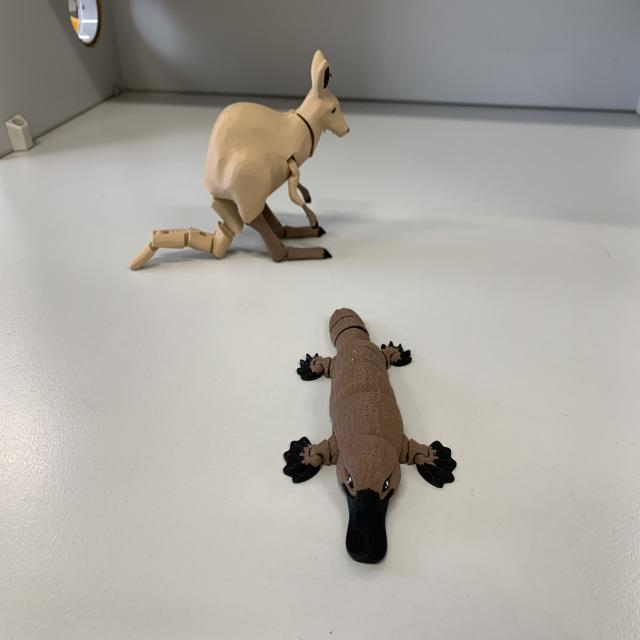kangaroo: (134, 43, 352, 266)
platypus: (276, 302, 477, 575)
